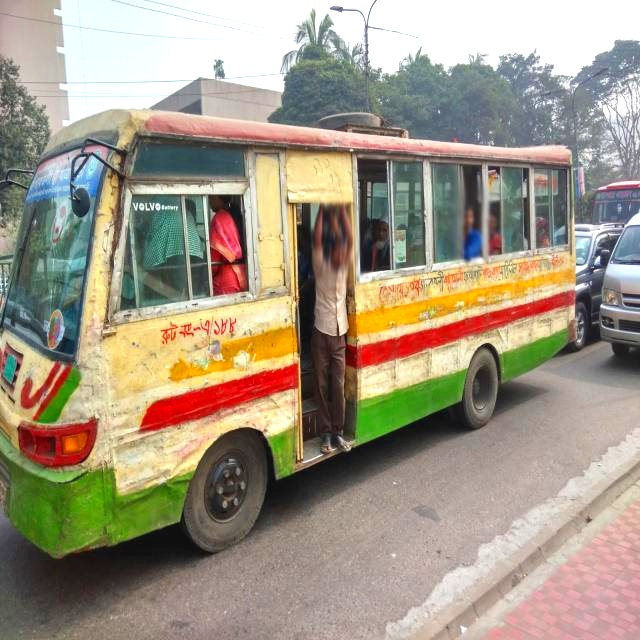bus: (0, 94, 621, 582)
